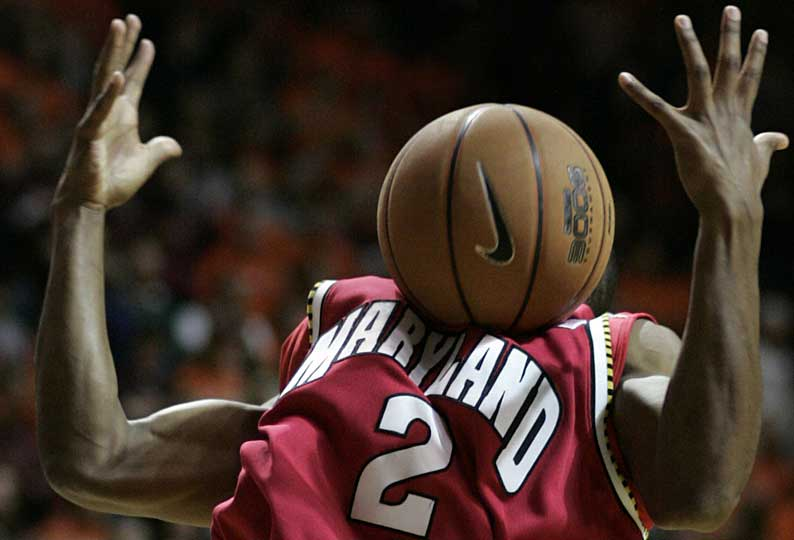basketball: (374, 104, 617, 335)
